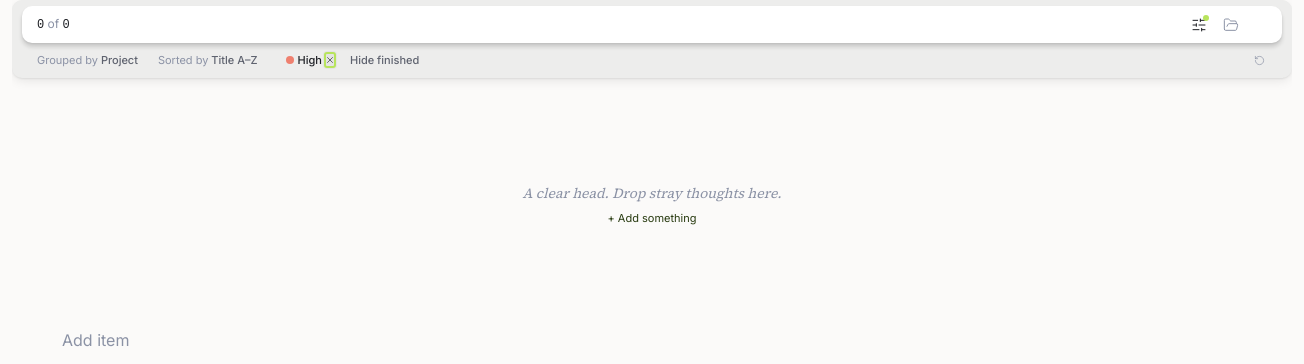
Test: a ✕ for each setting › keeps the last phrase's ✕ it hands focus to as Reset goes, in the sidebar mount
This screenshot has width=1304, height=364.
Expected: the button with test id "display-shelf-reset-braindump" is shown, [1251, 51, 1267, 69]
Step 1. Click the button named "Remove Priority: High" → coordinates (330, 60), box [323, 51, 337, 69]
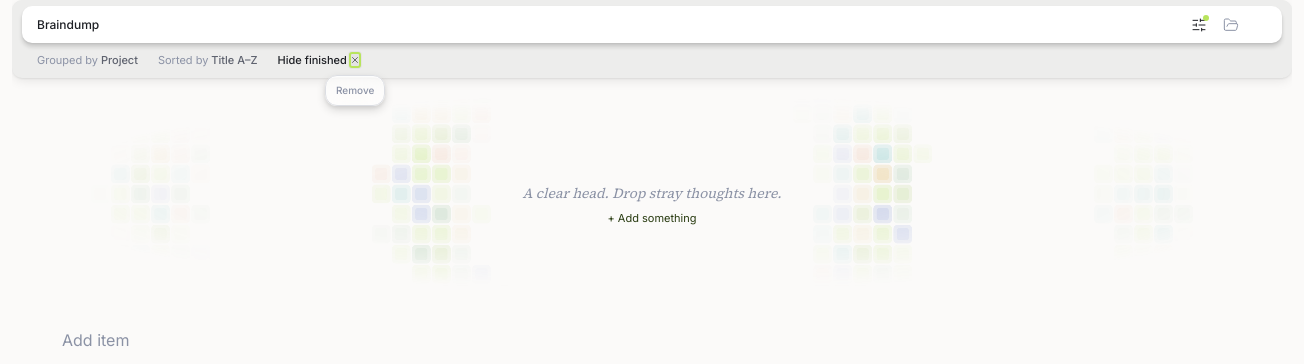
Expected: the button with test id "display-shelf-reset-braindump" is gone
